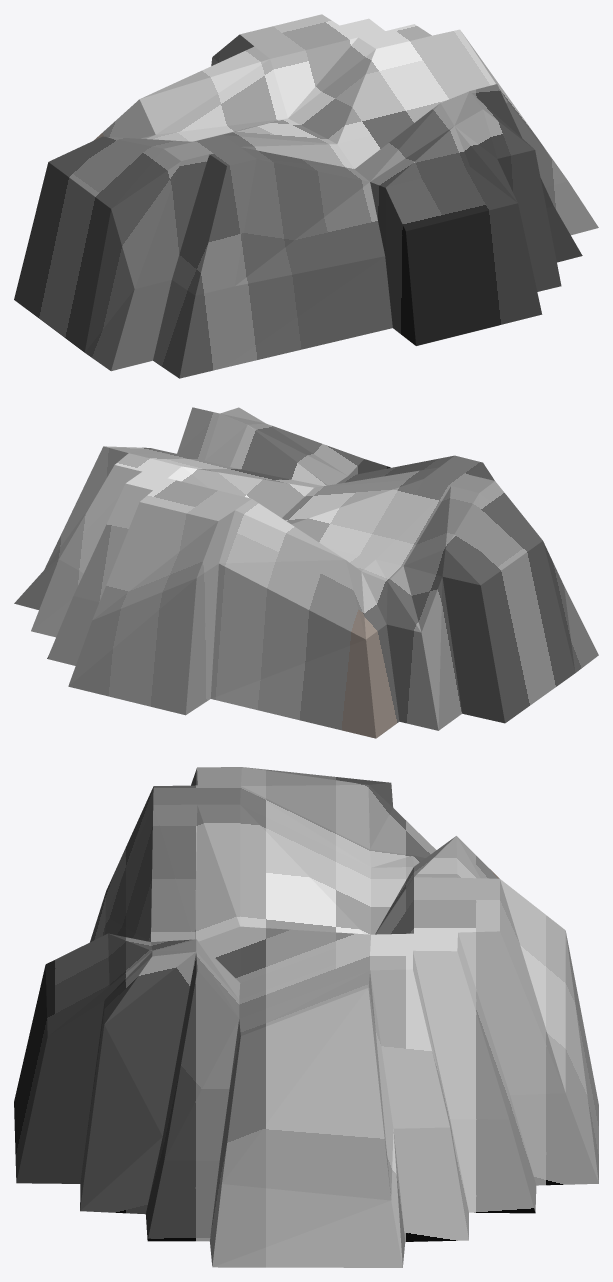
The model's file is rock_331x06.gltf.
3 views of the same model, one above another, from view 1: azimuth 30°, elevation 25°; view 2: azimuth 150°, elevation 25°; view 3: azimuth 270°, elevation 25° (orthographic). The views are drawn at different scales.
Parts seen in each view (by area): view 1: Rock_331x6; view 2: Rock_331x6; view 3: Rock_331x6.
Part boxes in pixels (left/top/right/bottom): Rock_331x6: left=14, top=14, right=598, bottom=378; Rock_331x6: left=14, top=407, right=598, bottom=738; Rock_331x6: left=14, top=767, right=598, bottom=1267.
Size of the model in its own units: 0.6516 by 0.2109 by 0.4888.
1 material, 1 textured.
